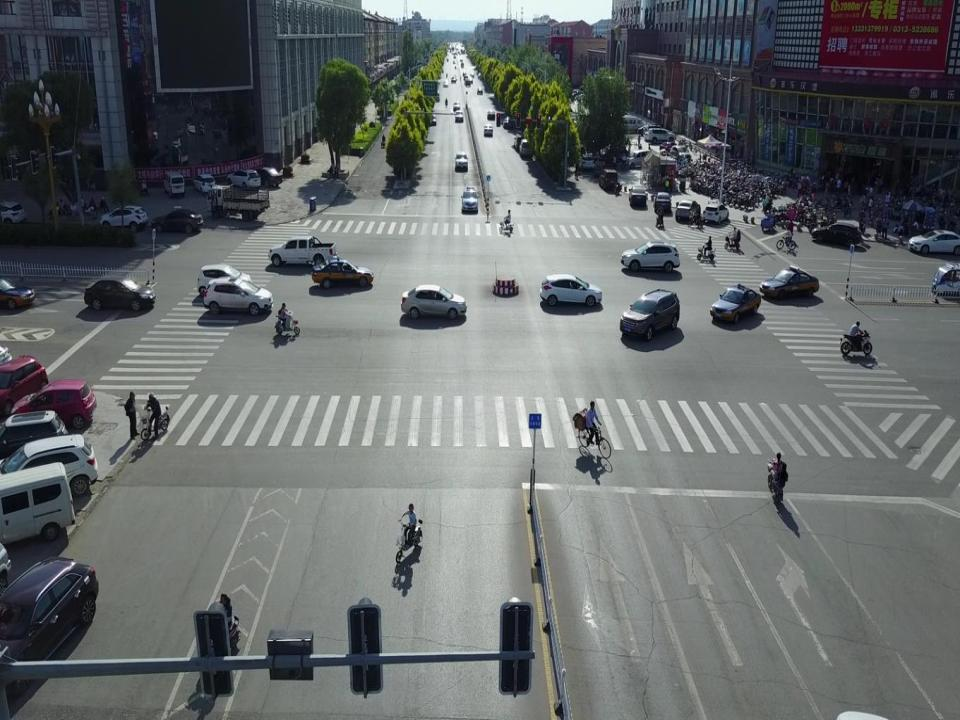car: (0, 558, 95, 695), (0, 461, 76, 542), (0, 432, 99, 492), (13, 380, 96, 426), (620, 288, 681, 344), (202, 277, 273, 318), (83, 276, 154, 315), (0, 350, 48, 407), (0, 412, 72, 447), (268, 234, 338, 270), (400, 284, 468, 319), (310, 255, 374, 291), (707, 283, 762, 324), (762, 266, 820, 302), (540, 274, 603, 307), (620, 240, 681, 274), (196, 262, 254, 296), (151, 205, 203, 235), (909, 227, 960, 256), (0, 274, 34, 312), (99, 205, 148, 231), (811, 220, 860, 246), (227, 168, 261, 189), (674, 199, 701, 224), (0, 200, 25, 224), (702, 203, 730, 224), (257, 165, 282, 187), (163, 170, 184, 196), (628, 184, 647, 211), (193, 173, 216, 194), (462, 186, 479, 214), (648, 126, 676, 143), (597, 168, 618, 190), (653, 192, 672, 216), (626, 150, 651, 168), (620, 115, 643, 131), (670, 145, 692, 160), (455, 152, 469, 172), (519, 138, 533, 158), (642, 124, 665, 136), (579, 154, 594, 170), (637, 122, 660, 132), (512, 132, 524, 150), (659, 142, 676, 154), (485, 122, 494, 138), (455, 108, 464, 121), (487, 109, 495, 121), (453, 101, 460, 110), (476, 87, 483, 95), (451, 75, 457, 83), (443, 79, 448, 87)
truck: (206, 183, 268, 221)
